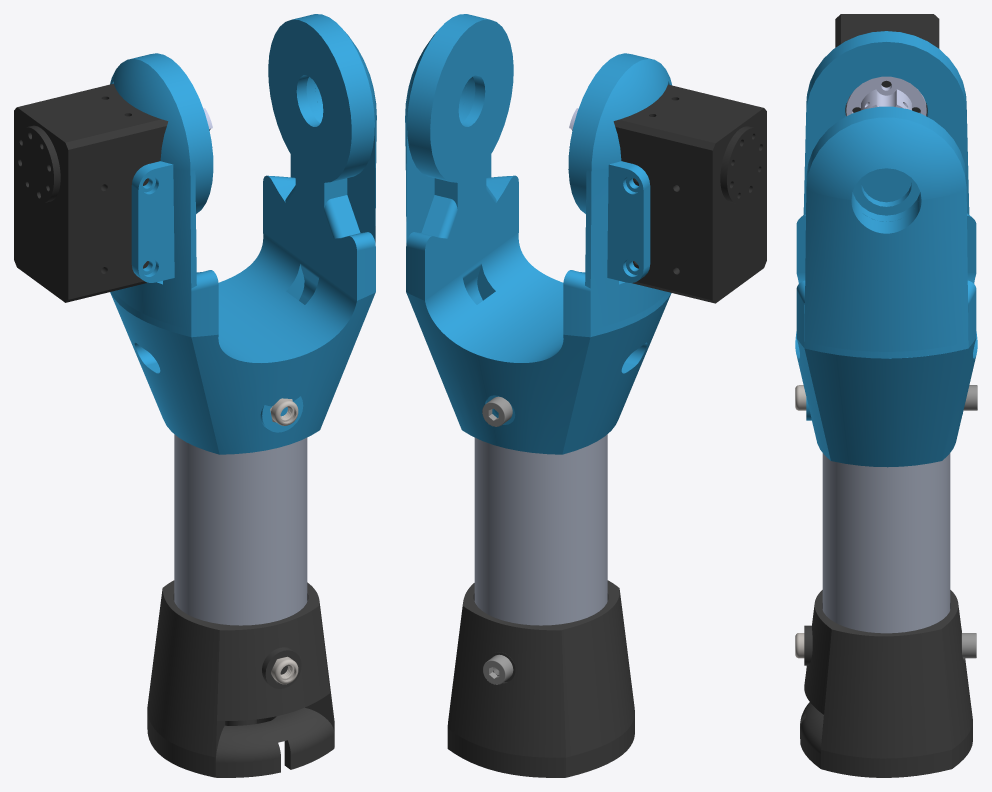
File: forearm_link.dae
The picture shows the model from 3 angles, left to right: view 1: azimuth 30°, elevation 25°; view 2: azimuth 150°, elevation 25°; view 3: azimuth 270°, elevation 25°; orthographic projection. The views are drawn at different scales.
Visible parts, largest first — view 1: Body_2, Body_1, Body_3, Body_15, Body_17; view 2: Body_2, Body_1, Body_3, Body_15, Body_17, Body_5, Body_4; view 3: Body_2, Body_1, Body_3, Body_15, Body_18, Body_5.
Part boxes in pixels (x1,y1,x2,y2): Body_2: (110, 14, 376, 454); Body_1: (147, 580, 334, 777); Body_3: (174, 434, 307, 625); Body_15: (14, 83, 168, 302); Body_17: (15, 125, 60, 203); Body_2: (405, 14, 672, 454); Body_1: (447, 580, 634, 777); Body_3: (474, 434, 607, 625); Body_15: (613, 84, 766, 303); Body_17: (720, 126, 765, 203); Body_5: (483, 654, 513, 684); Body_4: (482, 396, 512, 426); Body_2: (795, 31, 977, 467); Body_1: (800, 590, 972, 777); Body_3: (822, 453, 950, 633); Body_15: (835, 14, 939, 116); Body_18: (846, 76, 926, 115); Body_5: (962, 633, 976, 658).
Bounding box in the file's own units: 0.0982 × 0.05 × 0.202.
